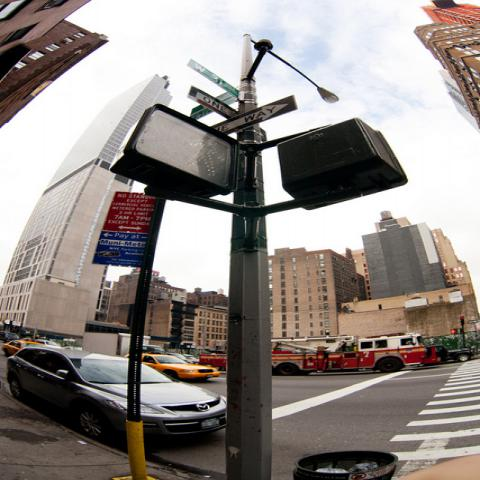car: (0, 344, 227, 456), (143, 351, 224, 382), (0, 339, 46, 357), (141, 344, 166, 355), (0, 330, 20, 341), (181, 354, 199, 362)
truck: (270, 329, 435, 378)
